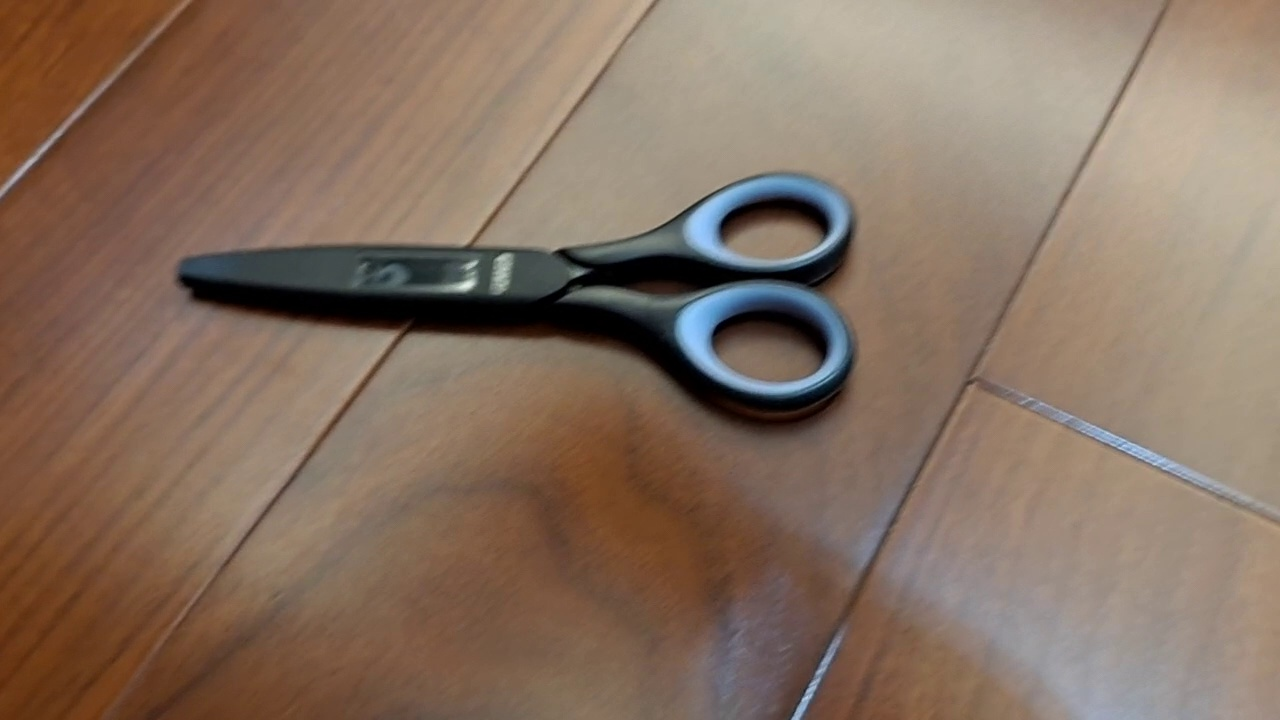scissors: (173, 168, 858, 416)
